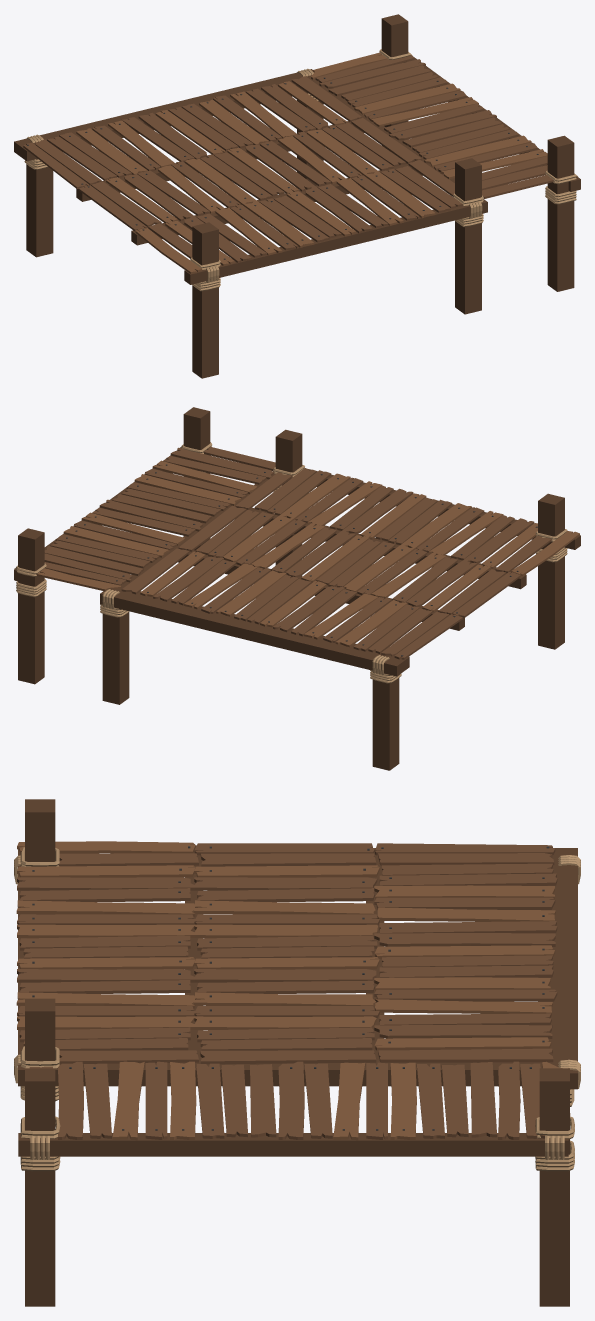
Rendered from HouseFloor_02.fbx.
3 renders of one model, top to bottom at view 1: azimuth 30°, elevation 25°; view 2: azimuth 150°, elevation 25°; view 3: azimuth 270°, elevation 25°, orthographic. The views are drawn at different scales.
Visible parts, largest first — view 1: HouseFloor_02_LOD0; view 2: HouseFloor_02_LOD0; view 3: HouseFloor_02_LOD0.
Part boxes in pixels (x1=…): HouseFloor_02_LOD0: x1=14, y1=14, x2=580, y2=378; HouseFloor_02_LOD0: x1=14, y1=407, x2=580, y2=770; HouseFloor_02_LOD0: x1=14, y1=799, x2=580, y2=1306.
Size of what is drawn, in the model's own units: 5.79 by 2.04 by 4.67.
